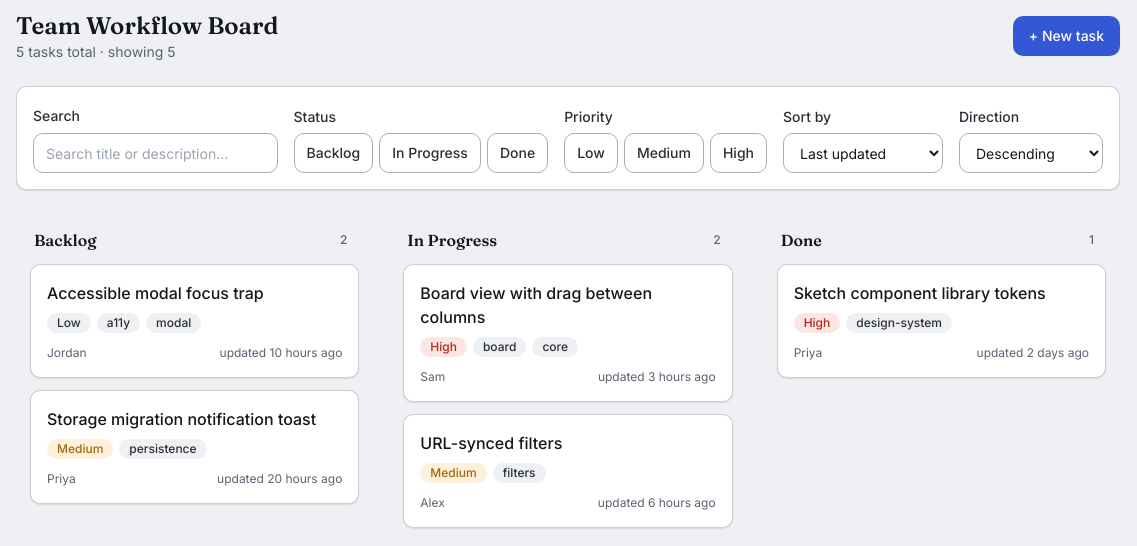
Test: filtering by status › narrows the board to only the selected status and updates the URL
Check: the heading "Sketch component library tokens" is shown, box x1=794 y1=281 x2=1089 y2=305
What coordinates should you click on to do the following:
click the button "Done"
I would click on:
 (518, 153)
Its box is x1=487 y1=133 x2=548 y2=173.
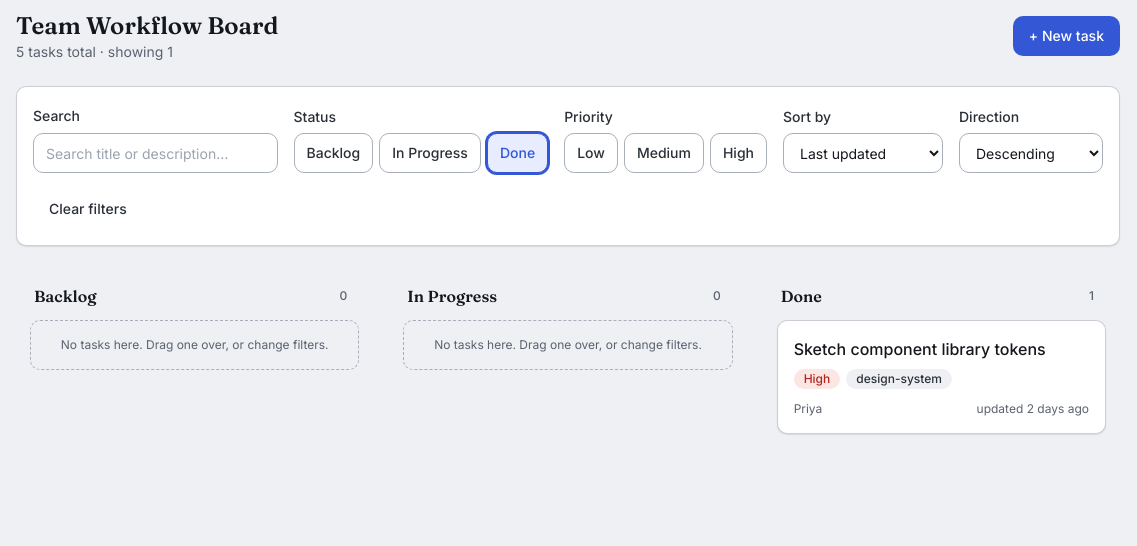
Check: the heading "Sketch component library tokens" is shown, box x1=794 y1=337 x2=1089 y2=361
Check: the button "Accessible modal focus trap" is gone
What coordinates should you click on to do the following:
click the button "Done"
I would click on:
 (518, 153)
Its box is x1=487 y1=133 x2=548 y2=173.
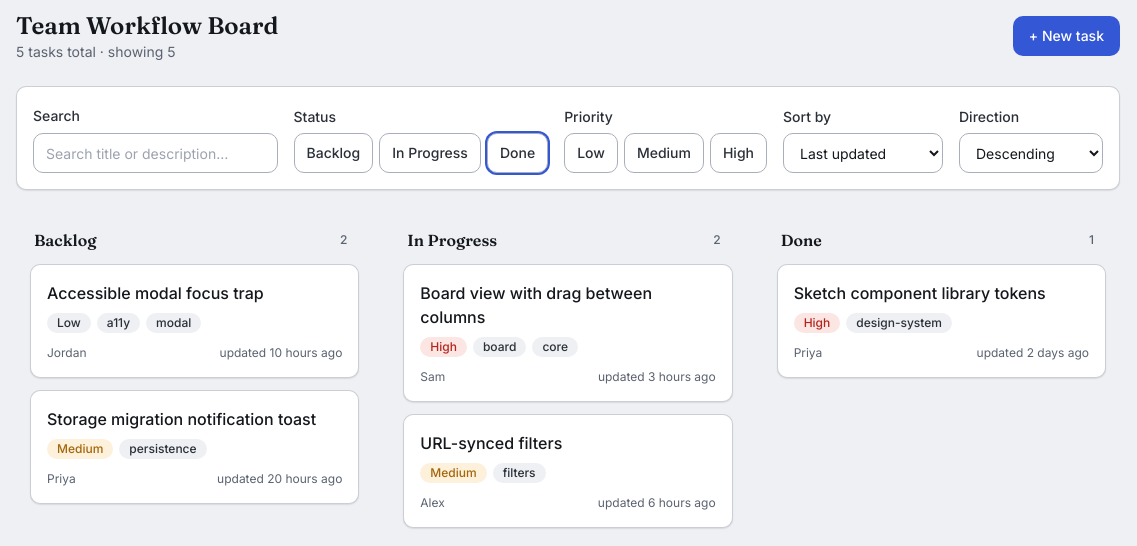
Check: the heading "Accessible modal focus trap" is shown, box x1=47 y1=283 x2=264 y2=303
